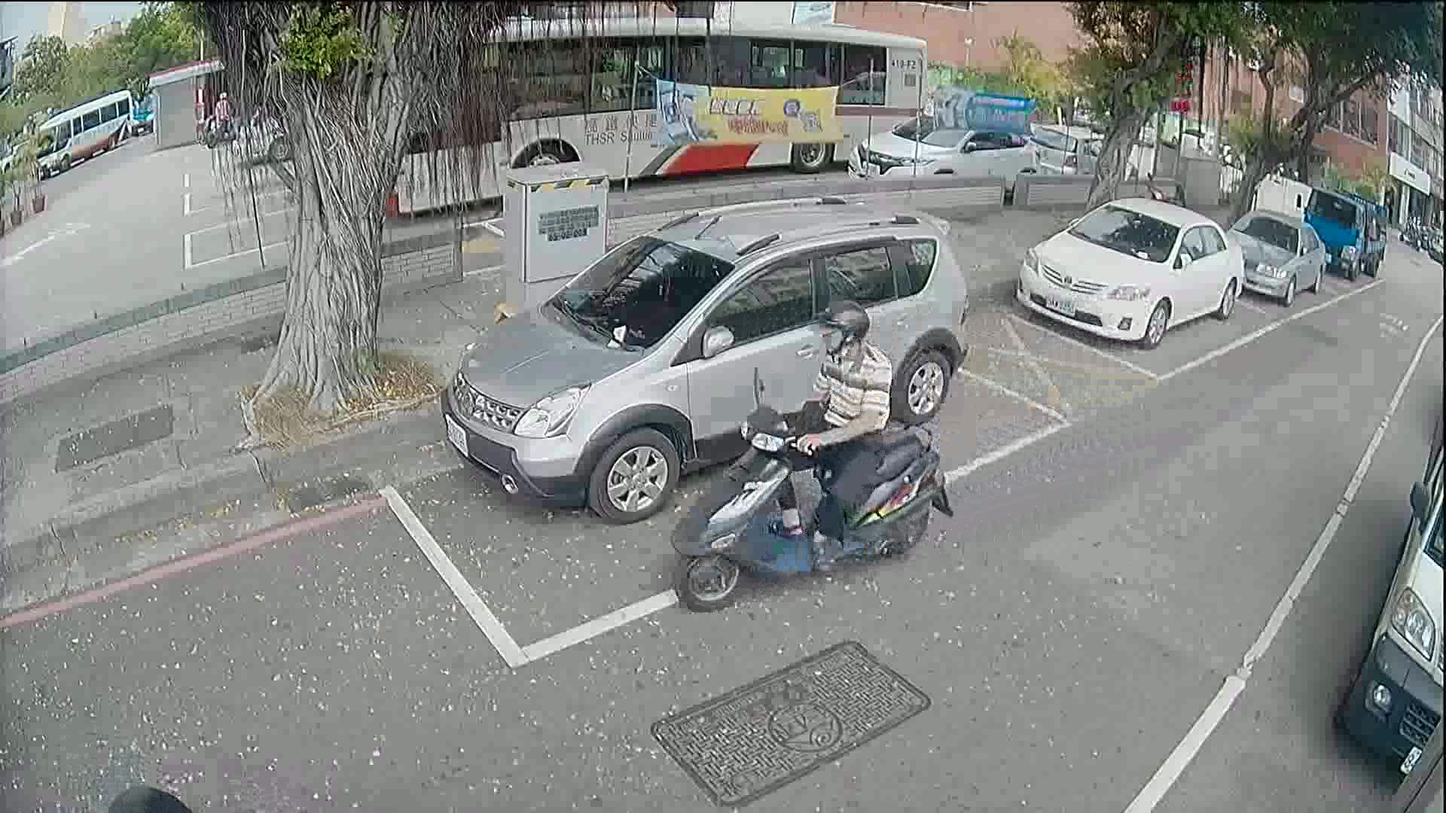person: (744, 313, 925, 564), (102, 775, 197, 812), (208, 85, 232, 143)
